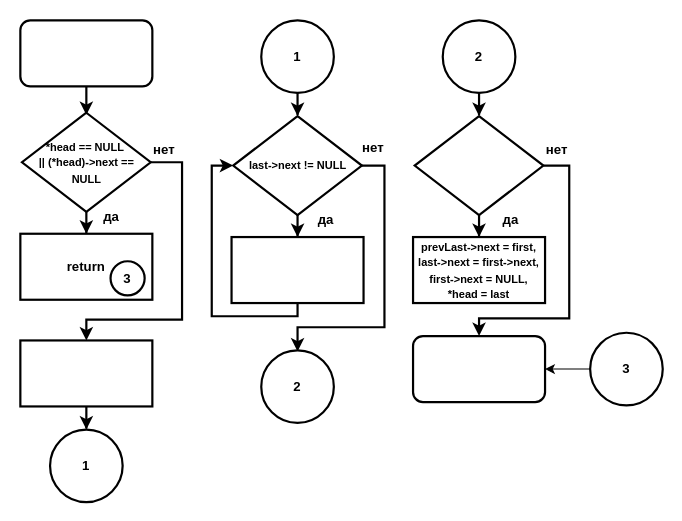
Image size: 682x521. Some labels were removed from this diagram. The centre of each missing label's shape, as x and y in pixels:
CD* first = *head, CD* last = *head, CD* prevLast = NULL: the point at 86,373
first != last: the point at 478,165
prevLast = last, last = last->next: the point at 297,269
конец: the point at 478,368
начало: the point at 86,53
